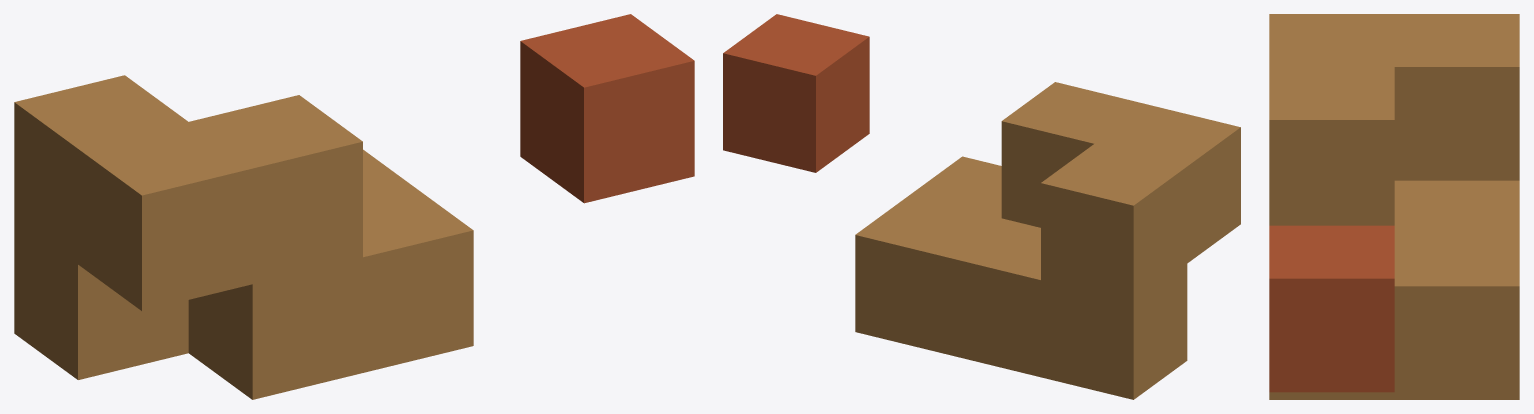
The model's file is round_7_d_62x39.glb.
The picture shows the model from 3 angles, left to right: view 1: azimuth 30°, elevation 25°; view 2: azimuth 150°, elevation 25°; view 3: azimuth 270°, elevation 25°; orthographic projection. The views are drawn at different scales.
Parts seen in each view (by area): view 1: cartridge:cartridge-model; view 2: cartridge:cartridge-model; view 3: cartridge:cartridge-model.
Part boxes in pixels (x1=…): cartridge:cartridge-model: x1=14, y1=14, x2=694, y2=399; cartridge:cartridge-model: x1=723, y1=14, x2=1240, y2=399; cartridge:cartridge-model: x1=1269, y1=14, x2=1519, y2=399.
Size of the model in its own units: 0.05 by 0.02 by 0.02.
